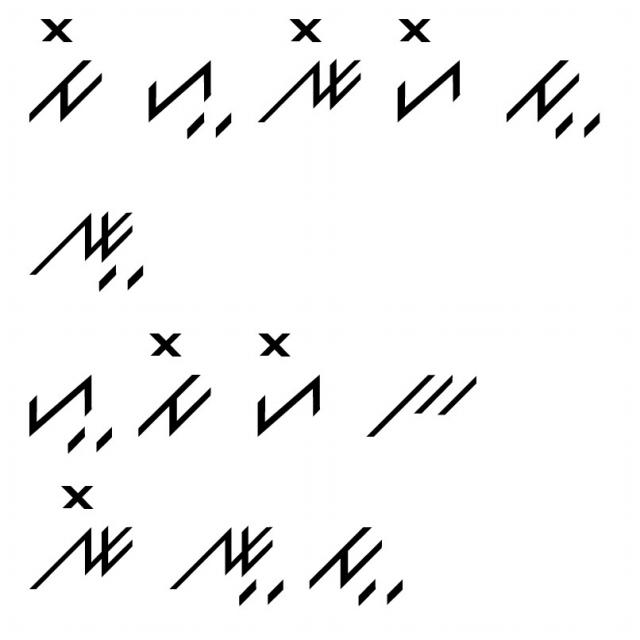hah: (136, 50, 236, 146), (15, 370, 116, 455)
ho: (239, 325, 326, 444), (390, 7, 468, 126)
mbah: (494, 52, 614, 144), (298, 519, 415, 608)
mbo: (13, 14, 105, 127), (128, 329, 214, 442)
ndah: (24, 206, 151, 304), (168, 510, 289, 612)
ndo: (28, 482, 140, 597), (257, 13, 366, 126)
